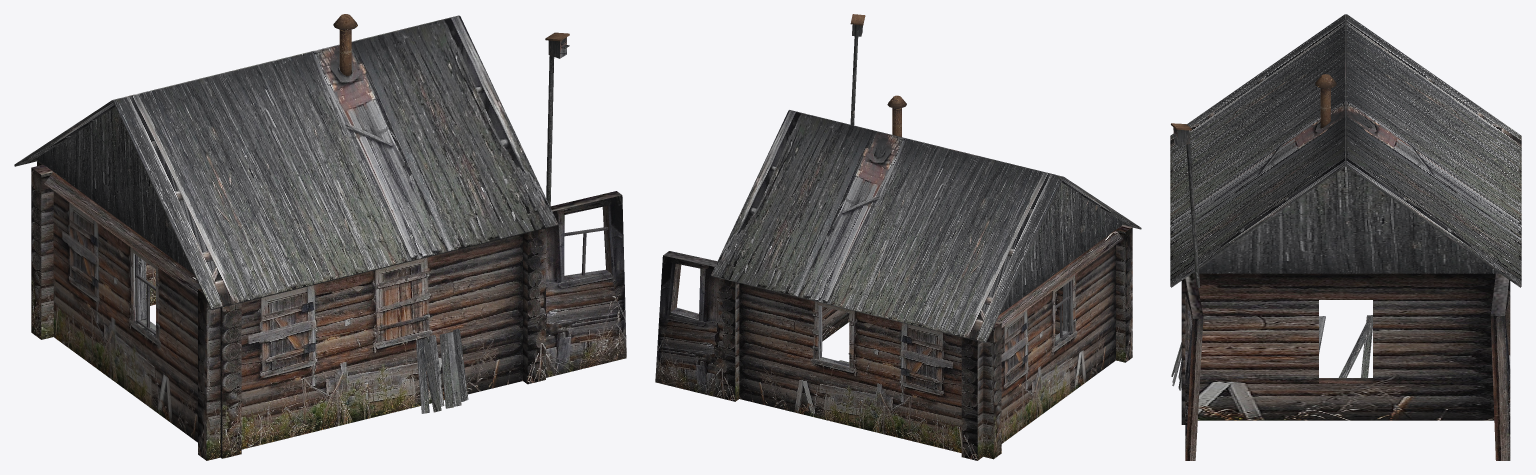
Rendered from d_brosheniy_domik.fbx.
The picture shows the model from 3 angles, left to right: view 1: azimuth 30°, elevation 25°; view 2: azimuth 150°, elevation 25°; view 3: azimuth 270°, elevation 25°; orthographic projection. The views are drawn at different scales.
Parts seen in each view (by area): view 1: Box001; view 2: Box001; view 3: Box001.
Boxes of the visible parts, box(x1,y1,x2,y2) form: Box001: box(14, 14, 626, 460); Box001: box(655, 14, 1141, 460); Box001: box(1170, 14, 1521, 460).
Bounding box in the file's own units: 8.06 × 6.25 × 6.51.
1 material, 1 textured.
